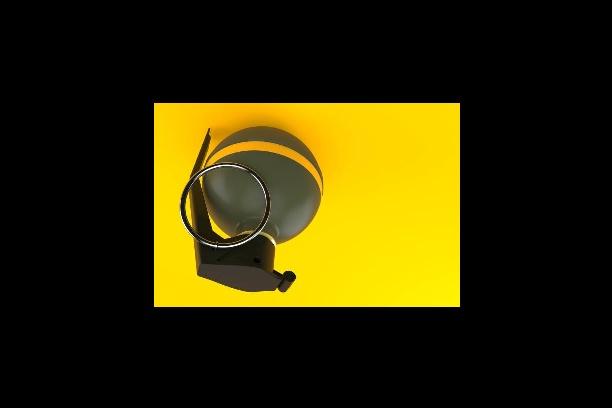e1: (178, 127, 324, 294)
